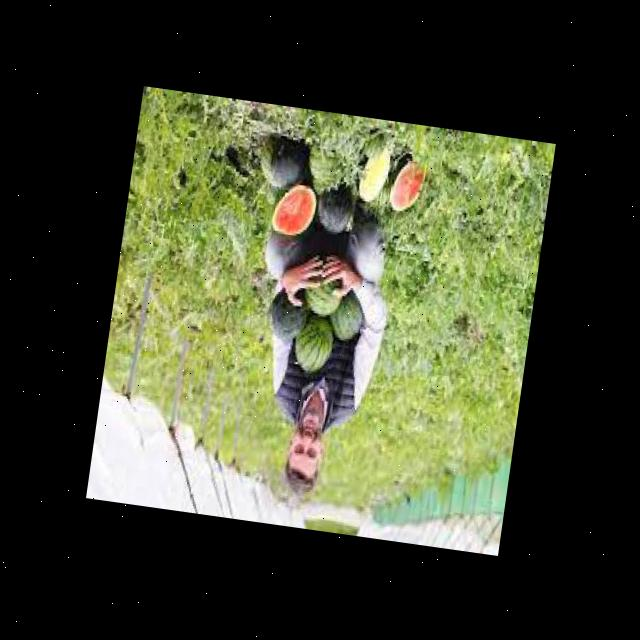watermelon: (291, 312, 336, 376), (269, 180, 318, 238), (257, 137, 306, 193), (266, 286, 310, 345), (387, 151, 428, 213), (314, 178, 356, 233), (353, 144, 390, 203), (326, 288, 366, 342), (301, 272, 344, 318)
